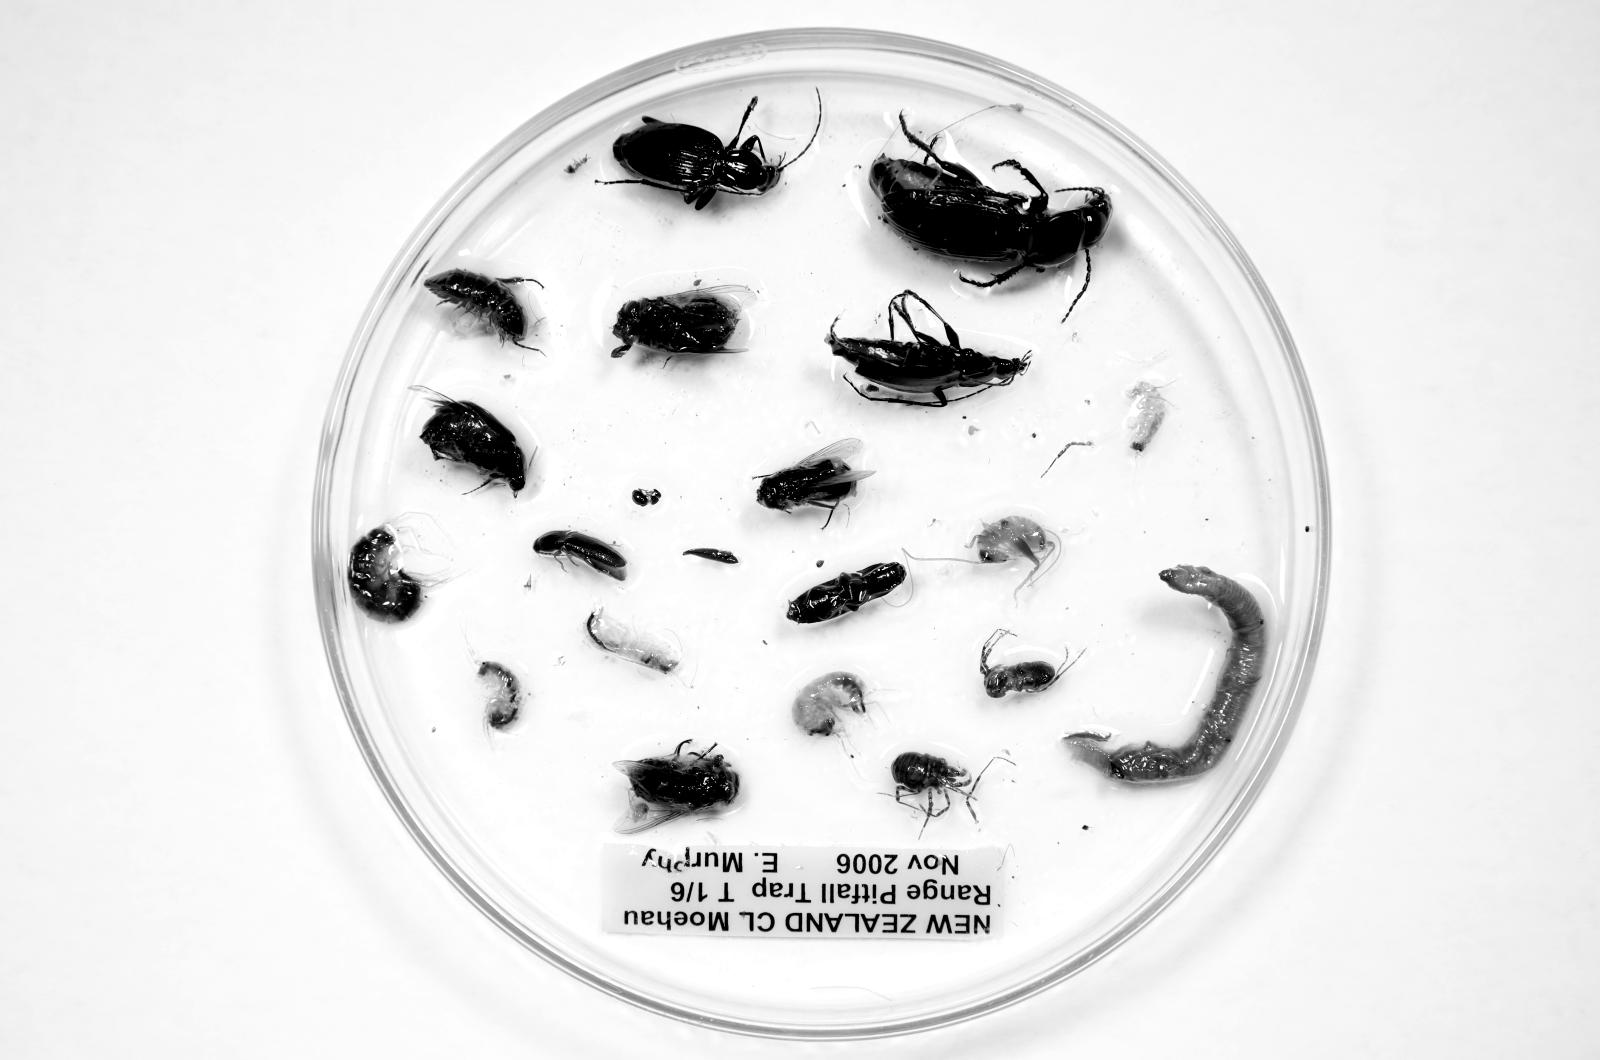amphipoda: (348, 525, 423, 622), (584, 602, 681, 674), (792, 672, 867, 735), (478, 661, 525, 731), (1125, 381, 1167, 453)
annelida: (1062, 565, 1267, 781)
carabidae: (869, 114, 1112, 287), (827, 290, 1029, 407), (613, 97, 822, 209)
coleoptera: (409, 386, 527, 497), (786, 561, 907, 623), (533, 530, 627, 581), (631, 489, 662, 506)
diptera: (614, 739, 739, 834), (611, 285, 756, 357), (756, 439, 874, 512)
isopoda: (423, 269, 526, 344)
opiliones: (890, 751, 979, 838), (980, 629, 1073, 698)
orthoptera: (970, 516, 1057, 581)
